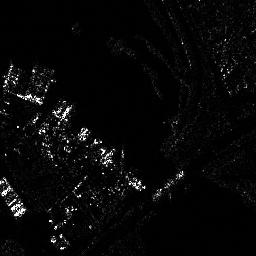ship: (153, 170, 186, 199)
